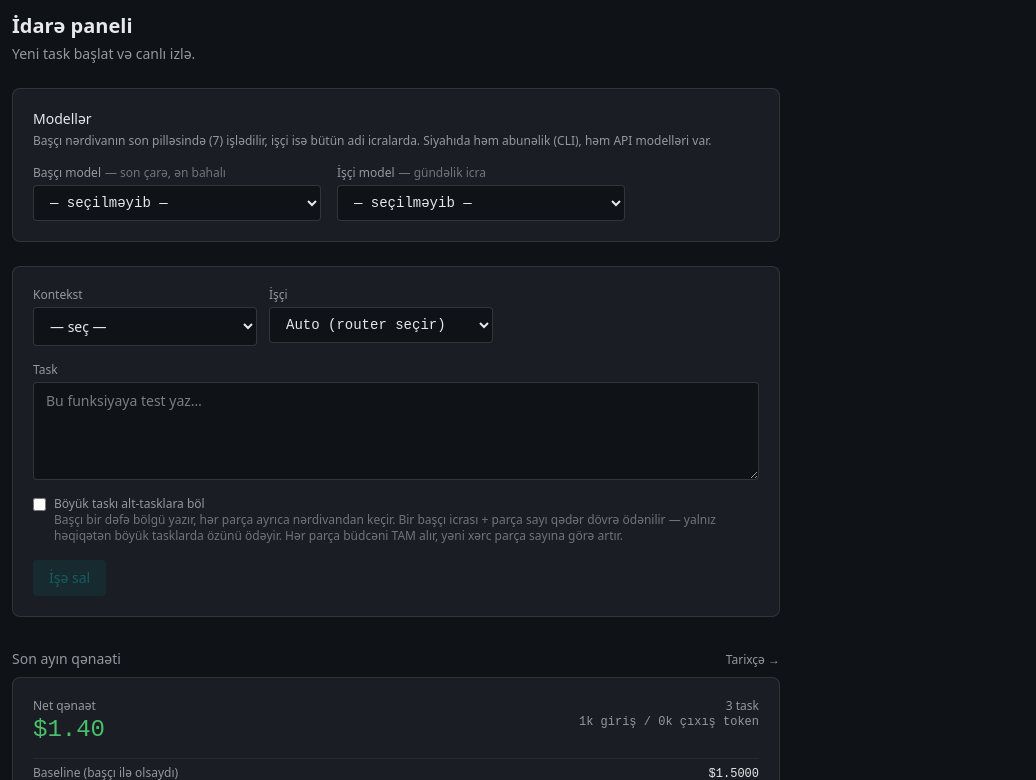
Test: Dashboard — hazır olmayan işçi › hazır olmayan işçi ilə task göndərməyə qoymur
The width and height of the screenshot is (1036, 780).
Select "Layihə" in the dropdown labelled "Kontekst": (145, 326) [33,307,257,346]
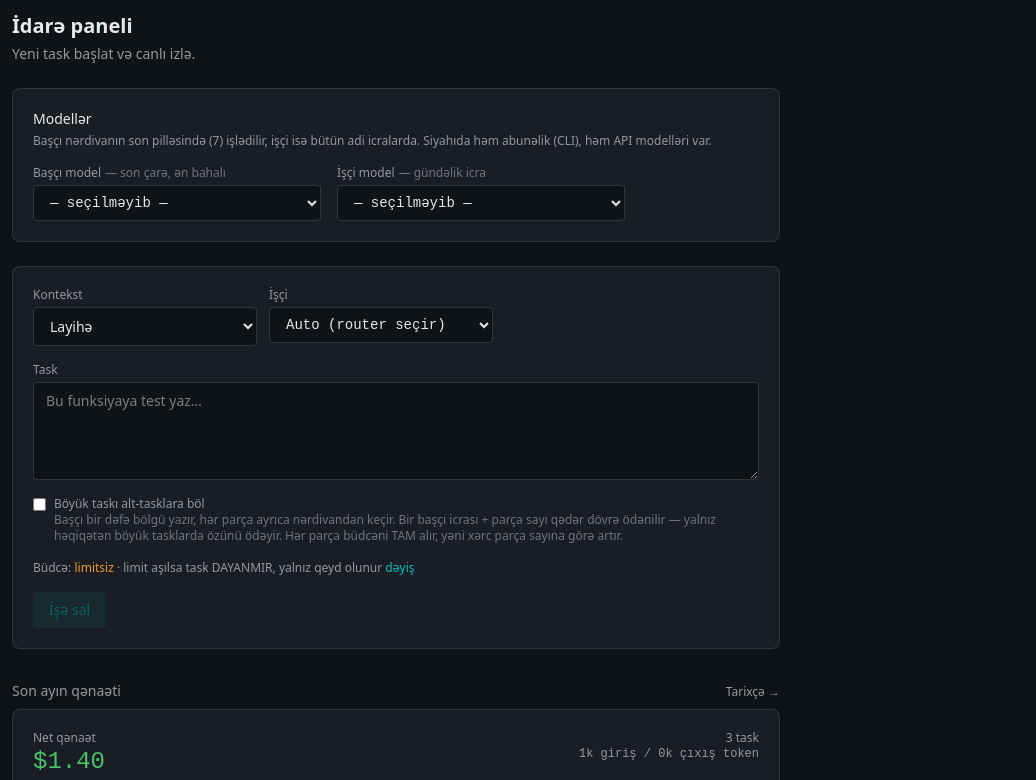
In the text box labelled "Task": (396, 431) [33,382,759,480], type "salam de"
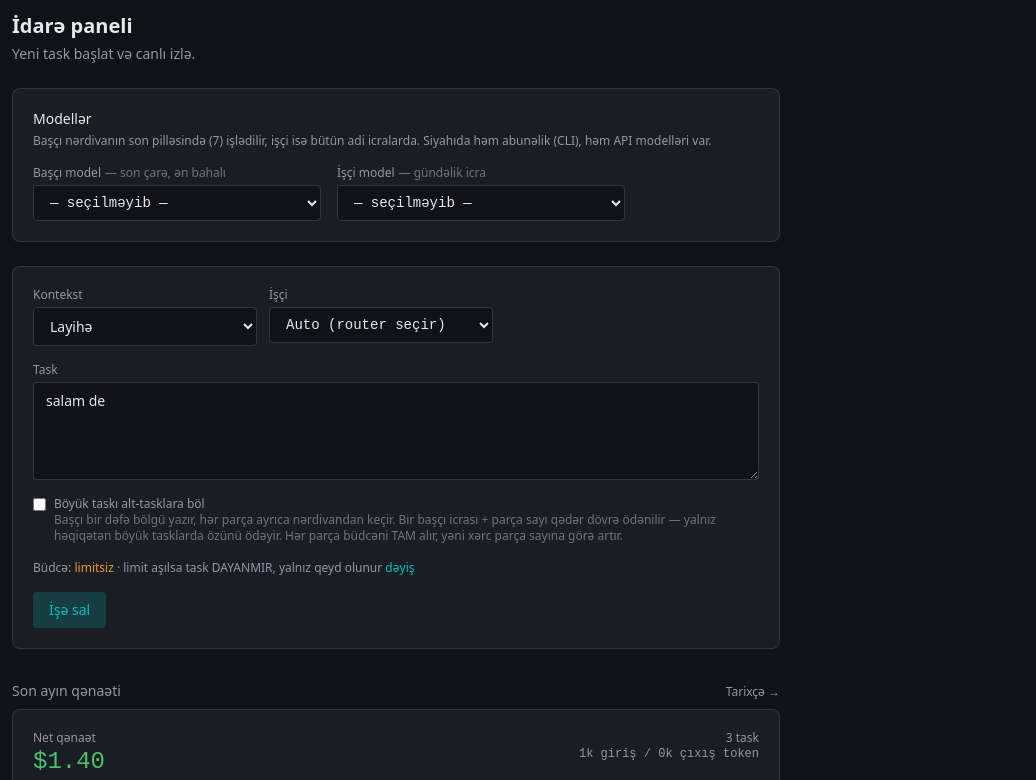
Select "api:anthropic (real pul)" in the dropdown labelled "İşçi": (381, 325) [269,307,493,343]
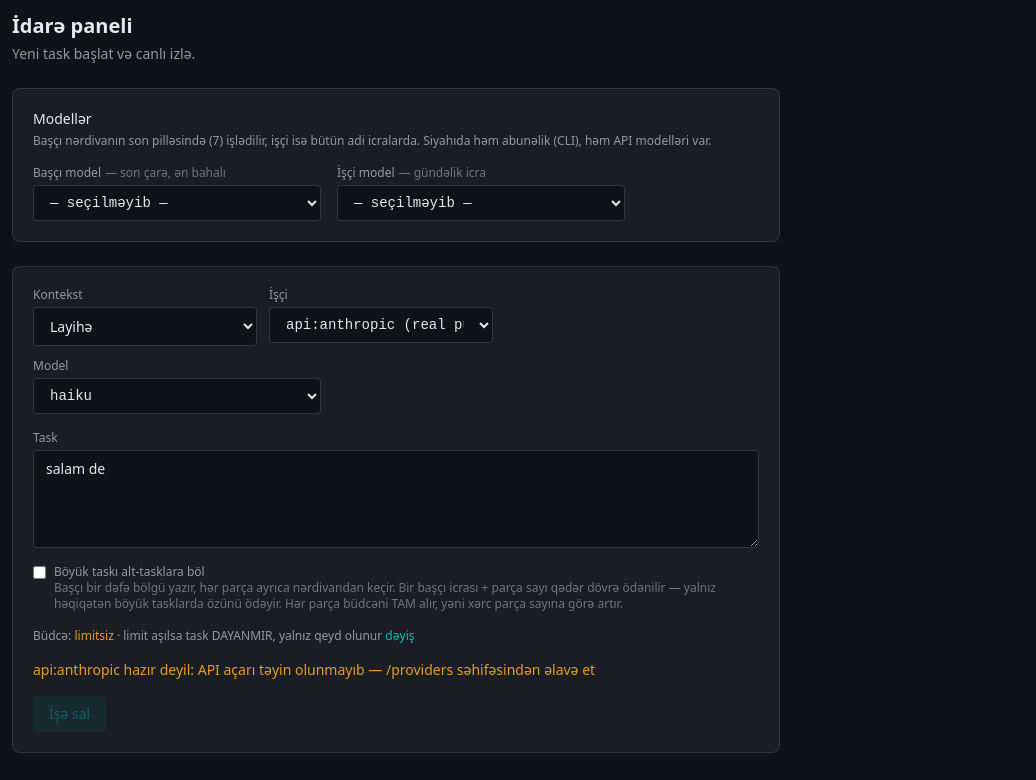
Expected: the button "İşə sal" is disabled, [33,696,106,732]
Select "cli:claude (abunəlik)" in the dropdown labelled "İşçi": (381, 325) [269,307,493,343]
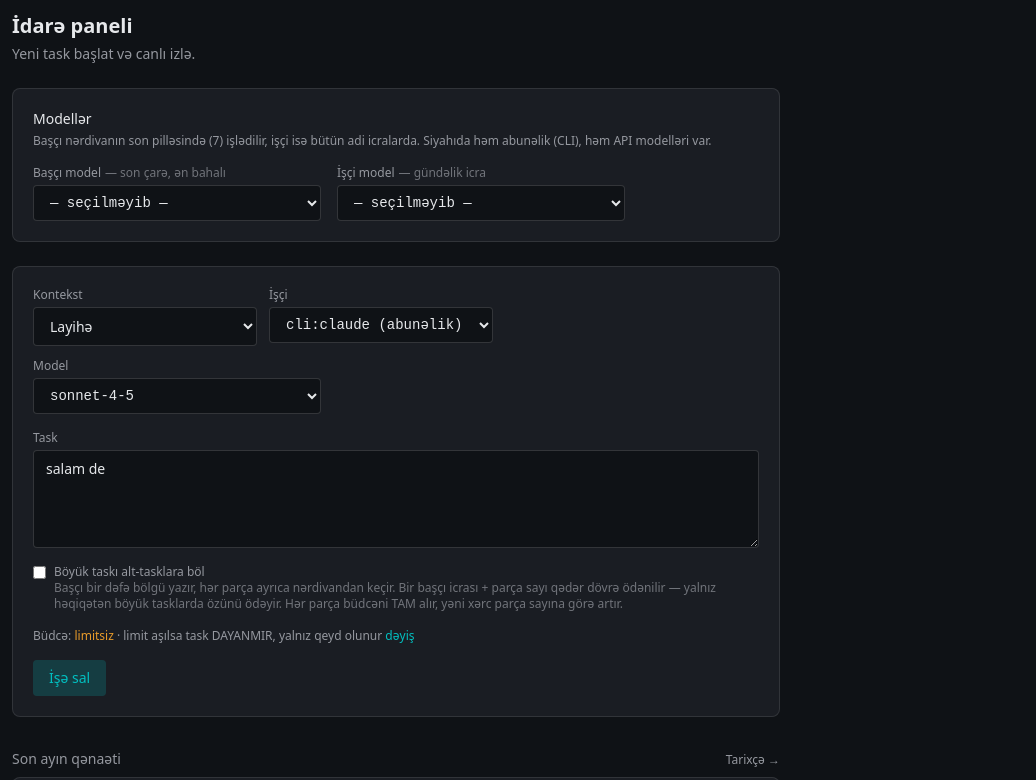
Expected: the button "İşə sal" is enabled, [33,660,106,696]
